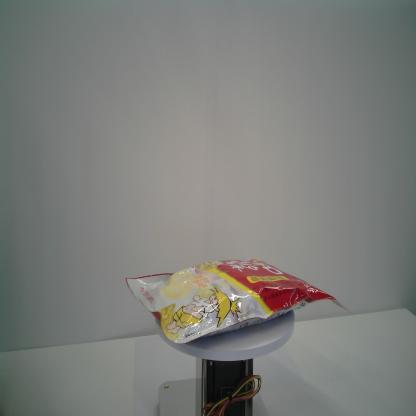Instant Drink: (124, 257, 354, 344)
